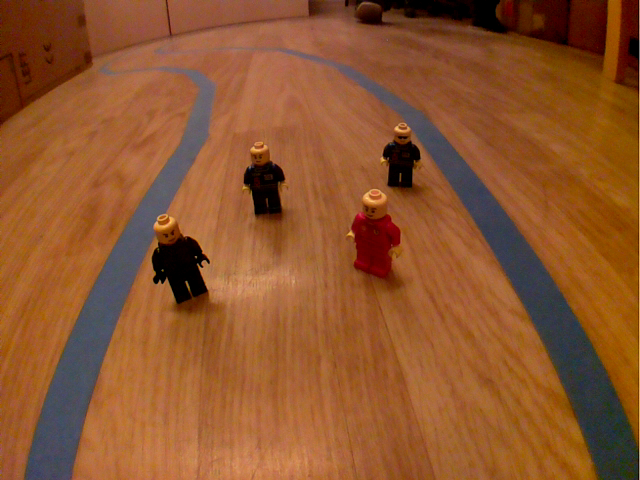Postac LEGO: (146, 207, 215, 309), (341, 186, 405, 283), (235, 137, 293, 221), (377, 115, 427, 193)
